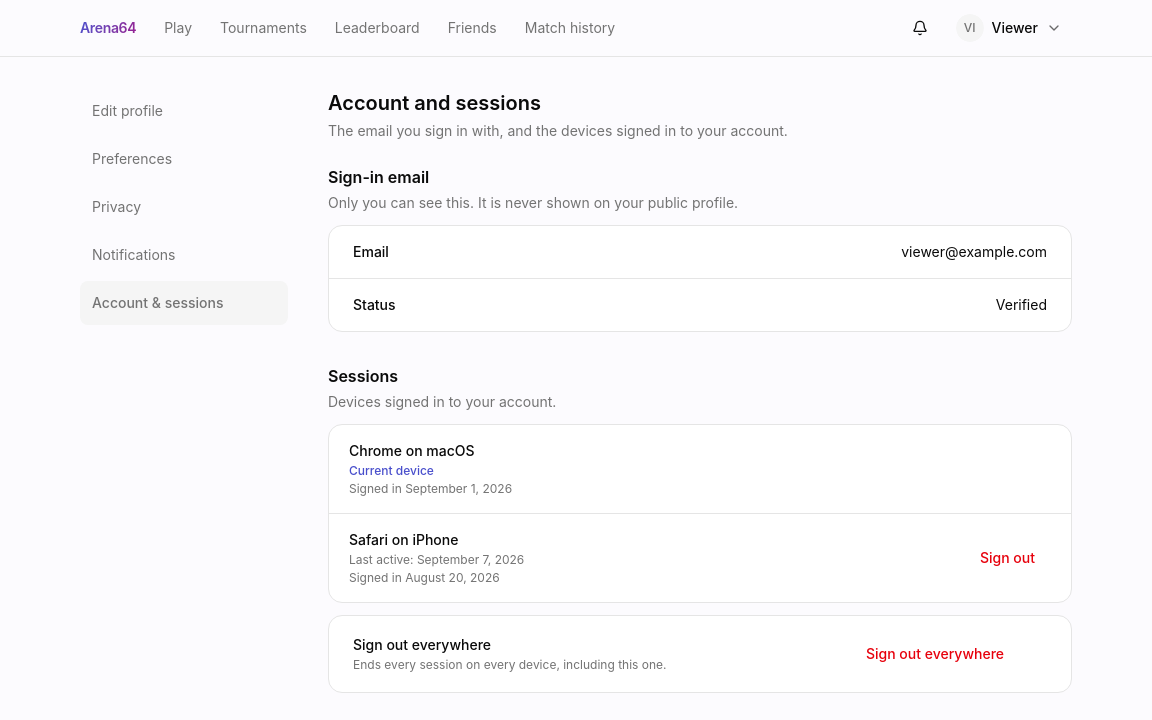
Test: keeps the row and explains itself when the sign-out fails
Expected: the list item that starts with "Safari on iPhone" is shown, 329,514 -> 1071,602
Click the button "Sign out". click: click(1008, 558)
box: 964,536 -> 1051,580
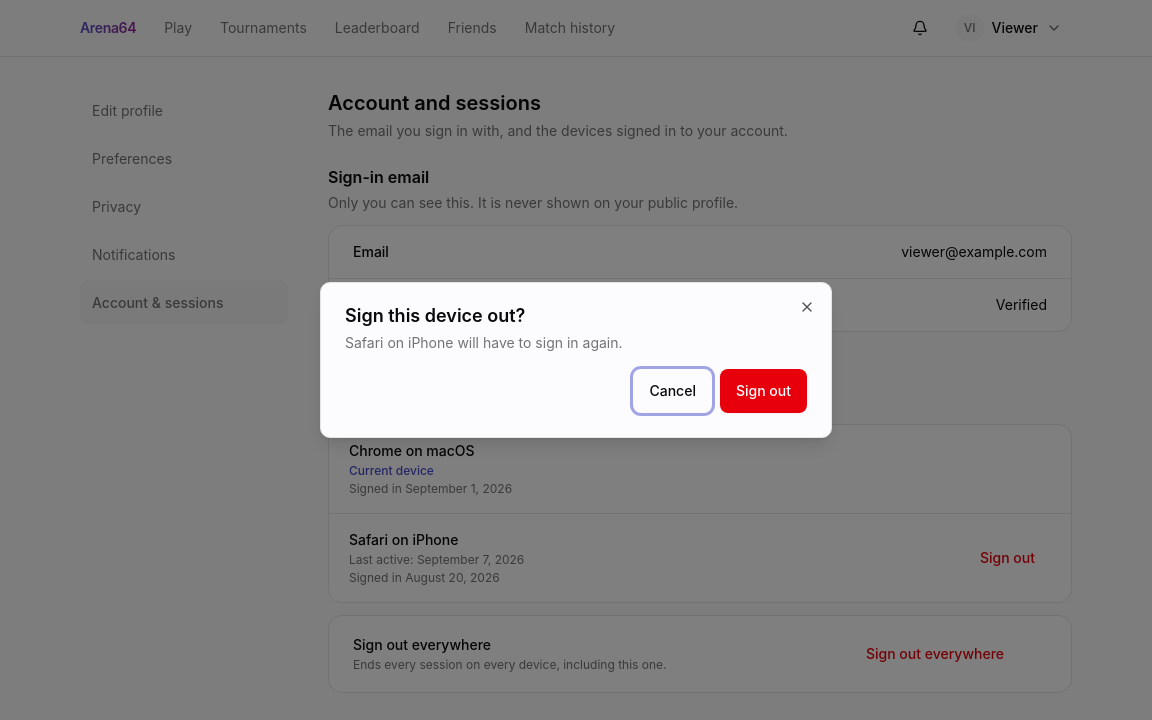
Click the button "Sign out". click: click(764, 391)
box: 720,369 -> 807,413
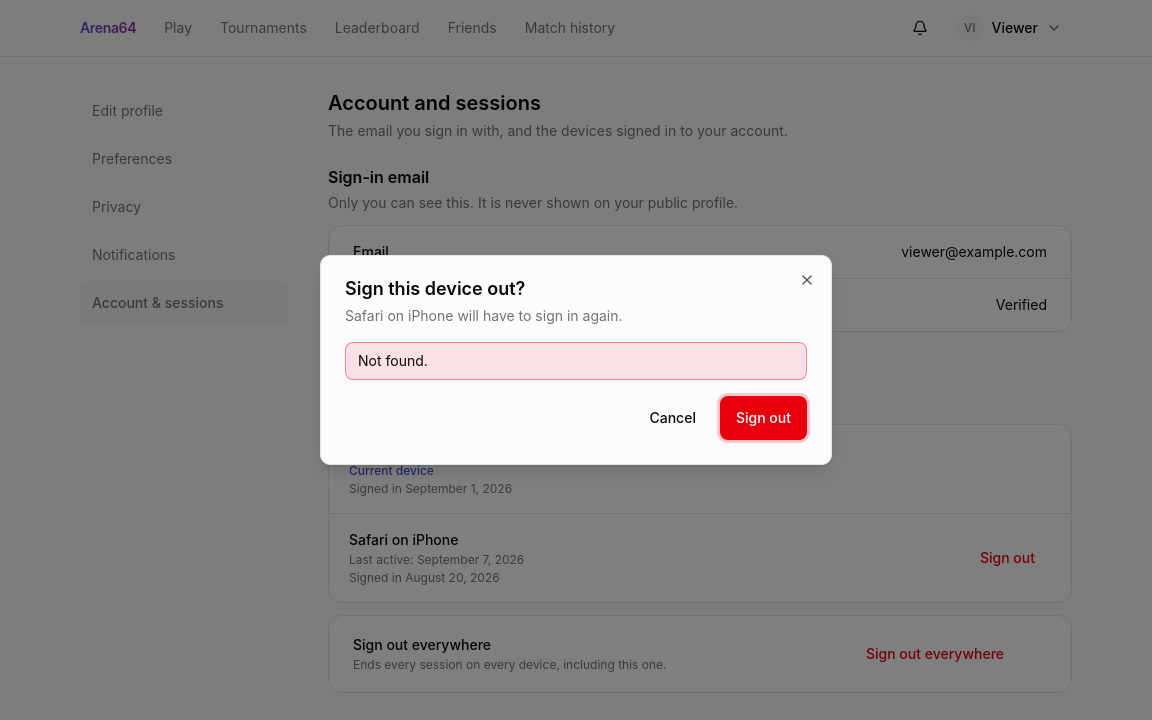
Expected: the text "Safari on iPhone" is shown, 349,531 -> 458,548
Expected: the message "Not found." is shown, 345,342 -> 807,380
